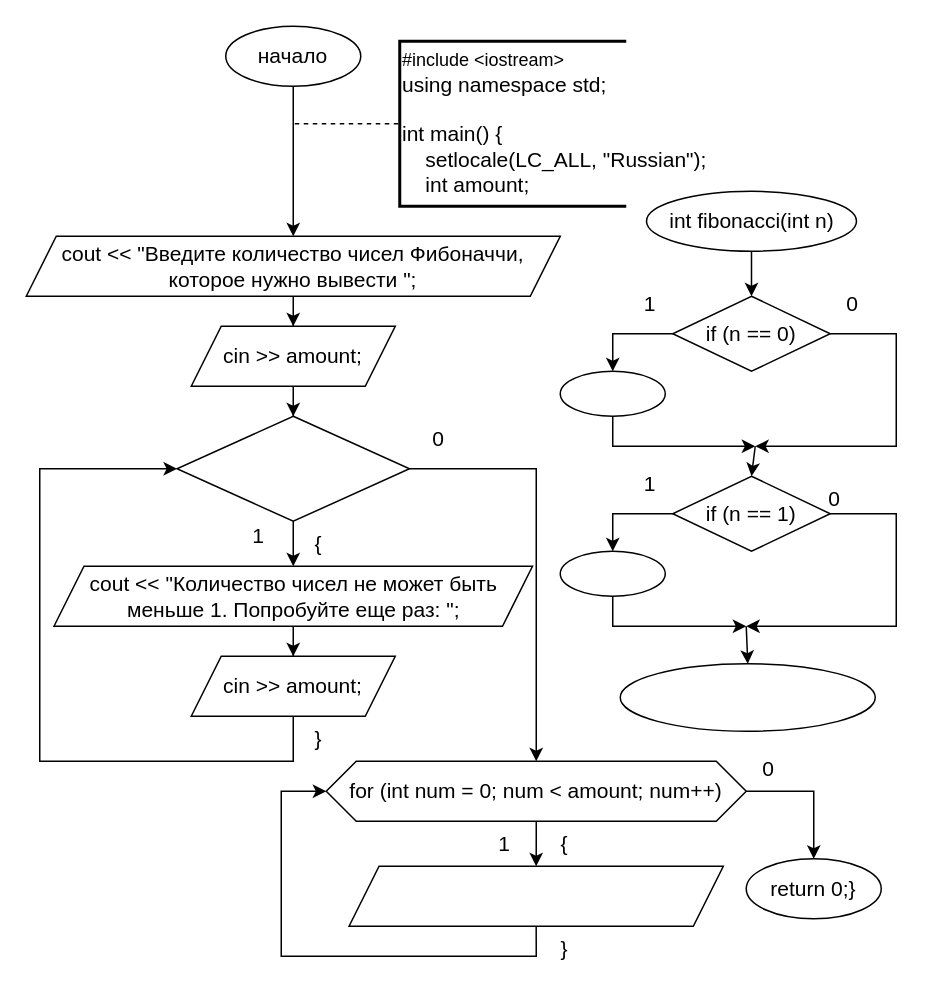
Some shapes in this 935 by 998 pixel diagram are drawn without their labels. Here are the shapes that lost their labels. From the top down, the centre of each, then its label:
point (612, 393): return 0;
point (293, 468): while (amount < 1)
point (612, 573): return 1;
point (747, 696): return fibonacci(n - 1) + fibonacci(n - 2);}
point (535, 895): cout << fibonacci(num) << endl;
